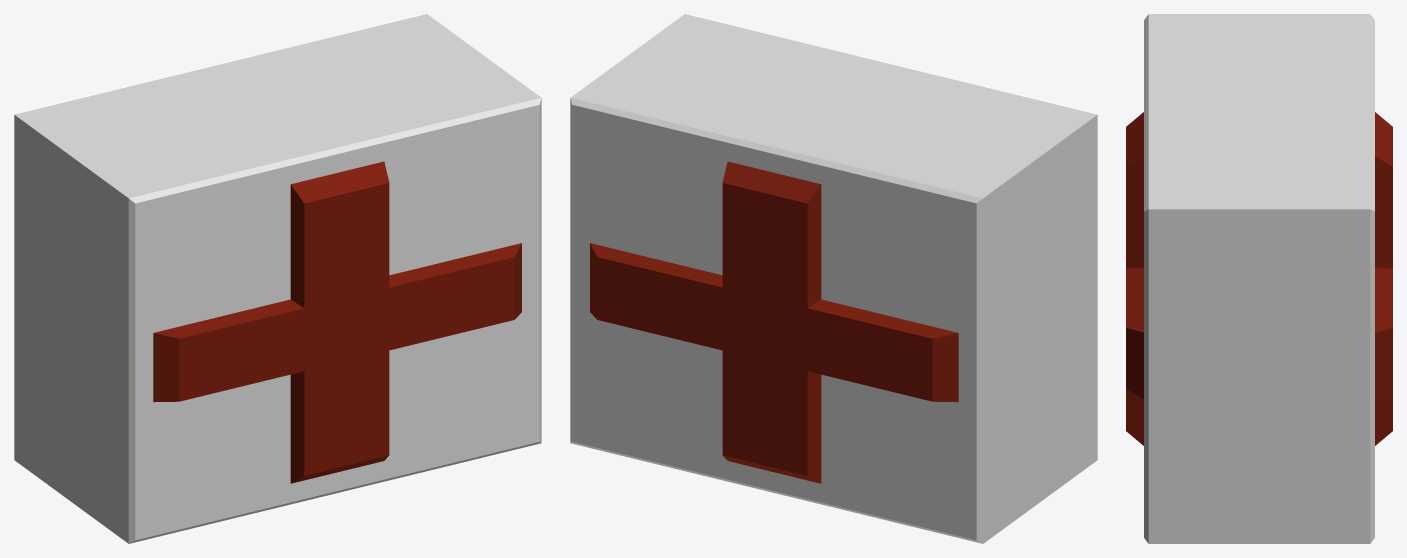
Rendered from medpack.fbx.
3 views of the same model, side by side, from view 1: azimuth 30°, elevation 25°; view 2: azimuth 150°, elevation 25°; view 3: azimuth 270°, elevation 25° (orthographic). The views are drawn at different scales.
Parts seen in each view (by area): view 1: Cube; view 2: Cube; view 3: Cube.
Boxes of the visible parts, bbox=[...] form: Cube: bbox=[14, 14, 541, 543]; Cube: bbox=[570, 14, 1097, 543]; Cube: bbox=[1126, 14, 1392, 543].
Size of the model in its own units: 100 by 80 by 57.81.
